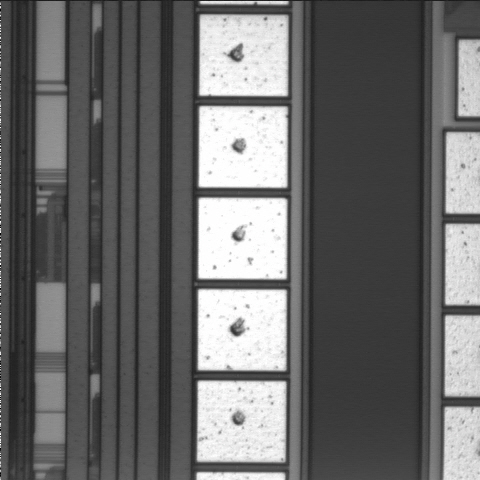pad: (199, 106, 288, 188), (198, 289, 287, 371), (199, 15, 288, 96), (198, 198, 287, 279), (197, 381, 286, 462)
